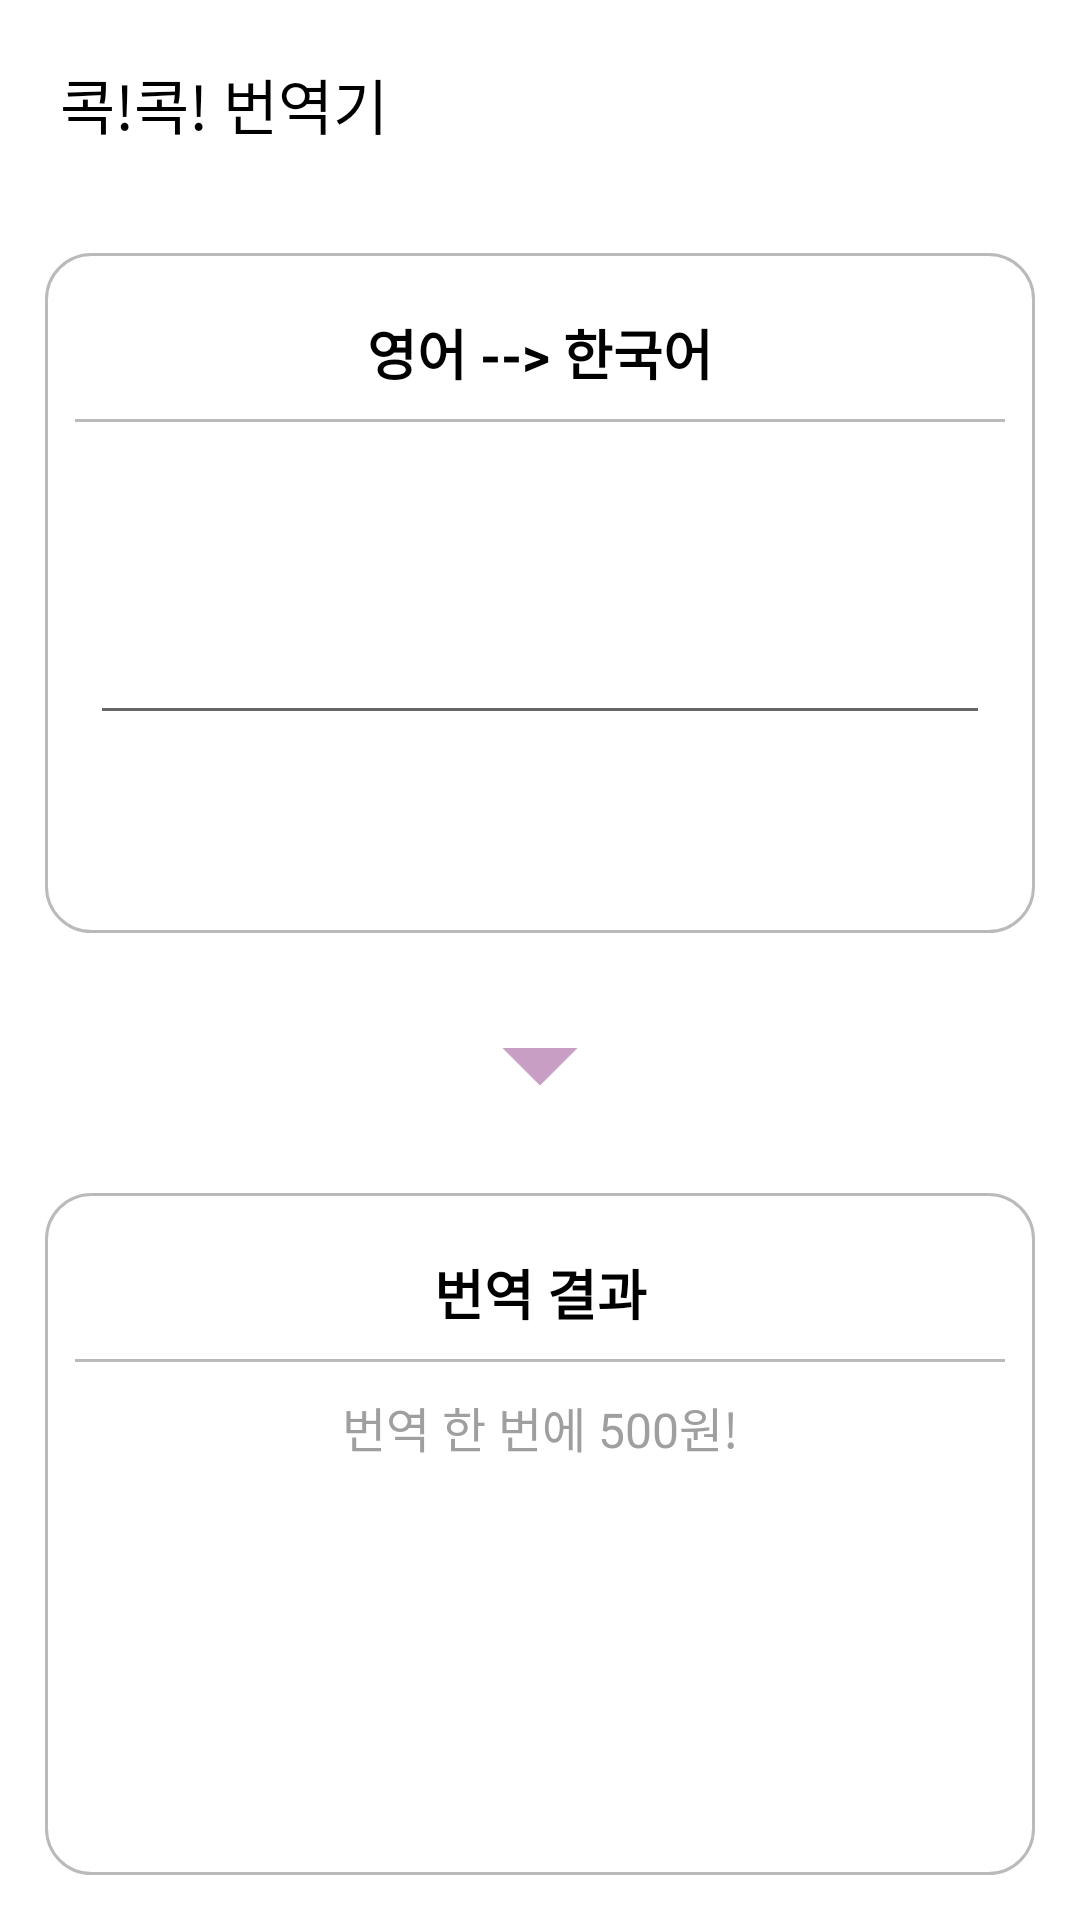

Screen size 1080w x 1920h. Icon name, then its box in pixels as (x1, y1, x2, y2):
arrow drop down: (503, 1048, 577, 1085)
